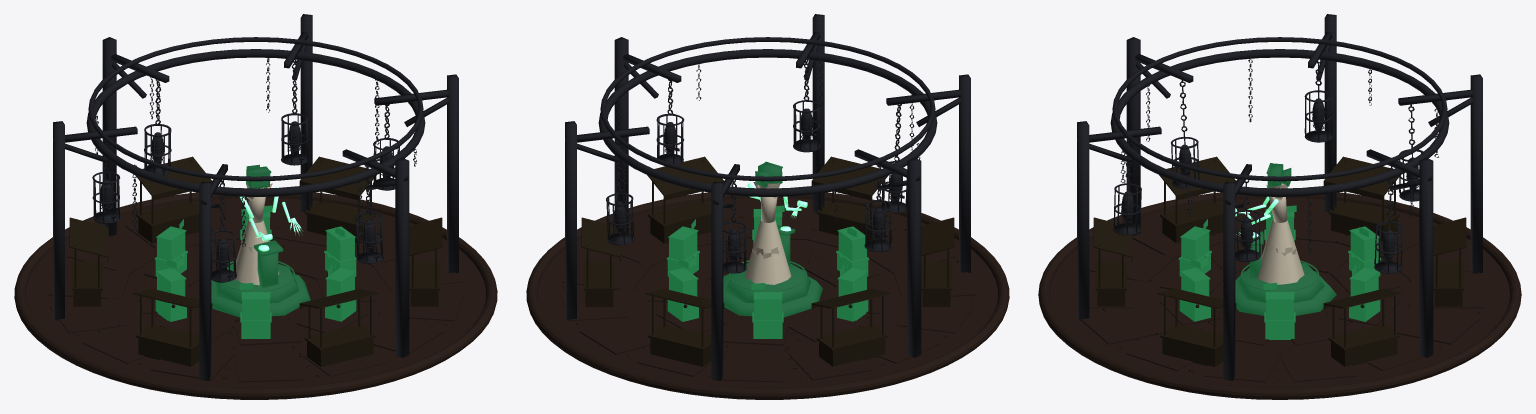
The model's file is circuito2_mercaderes.glb.
3 renders of one model, left to right at view 1: azimuth 30°, elevation 25°; view 2: azimuth 150°, elevation 25°; view 3: azimuth 270°, elevation 25°, orthographic.
Parts seen in each view (by area): view 1: The_Circle_of_the_Flesh_Merchants; view 2: The_Circle_of_the_Flesh_Merchants; view 3: The_Circle_of_the_Flesh_Merchants.
Part boxes in pixels (x1=…): The_Circle_of_the_Flesh_Merchants: x1=14, y1=14, x2=497, y2=399; The_Circle_of_the_Flesh_Merchants: x1=526, y1=14, x2=1009, y2=399; The_Circle_of_the_Flesh_Merchants: x1=1038, y1=14, x2=1521, y2=399.
Size of the model in its own units: 26.94 by 12.27 by 26.94.
